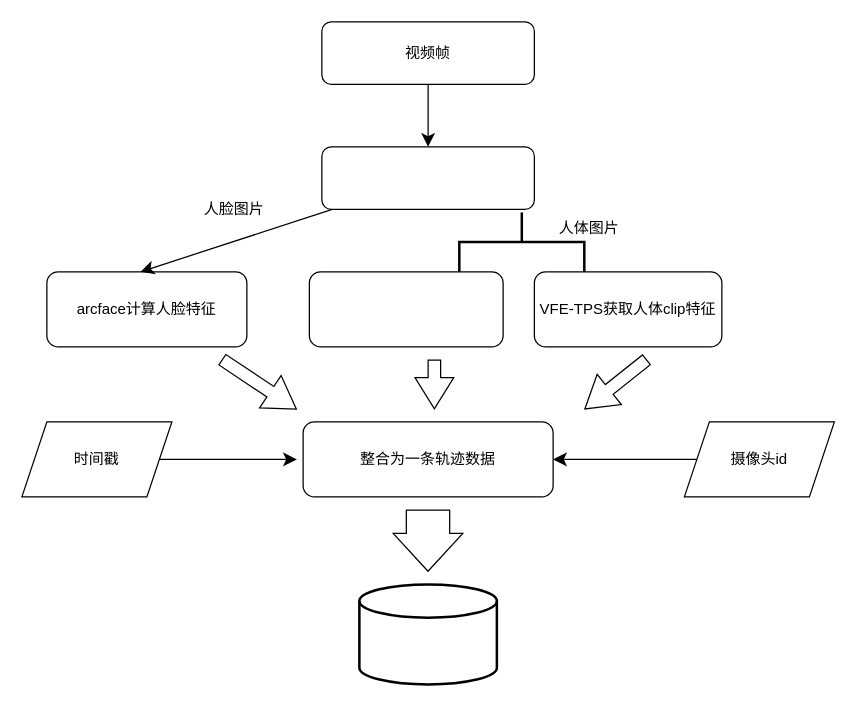
Image size: 856x708. Some labels were removed from this diagram. Each missing label, with the centre of its shape:
Faiss向量数据库: the point at 428,633
reid计算人体特征: the point at 405,309
yolov11提取人体和人脸图片: the point at 427,177
